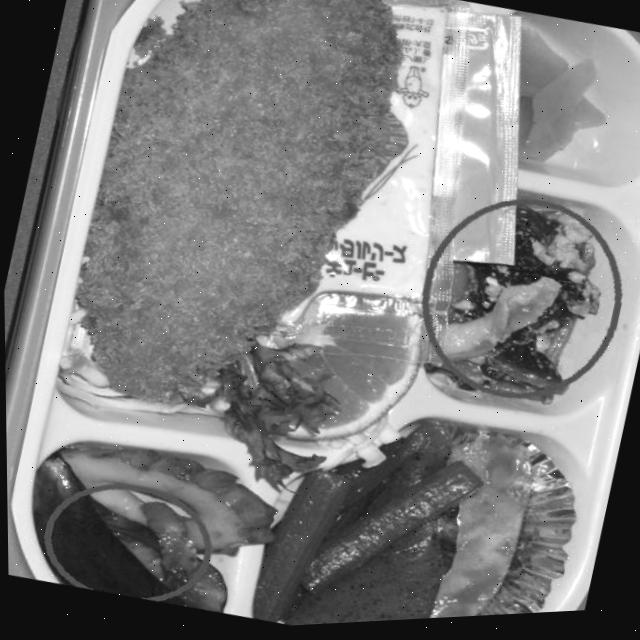炸货点心: (36, 0, 443, 454)
熟制海鲜: (36, 0, 443, 454)
